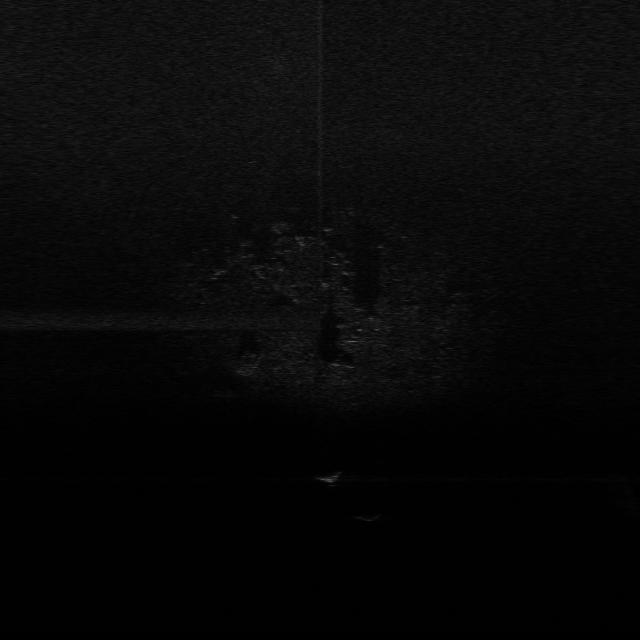cube: (354, 500, 390, 525)
square cage: (308, 464, 348, 487)
